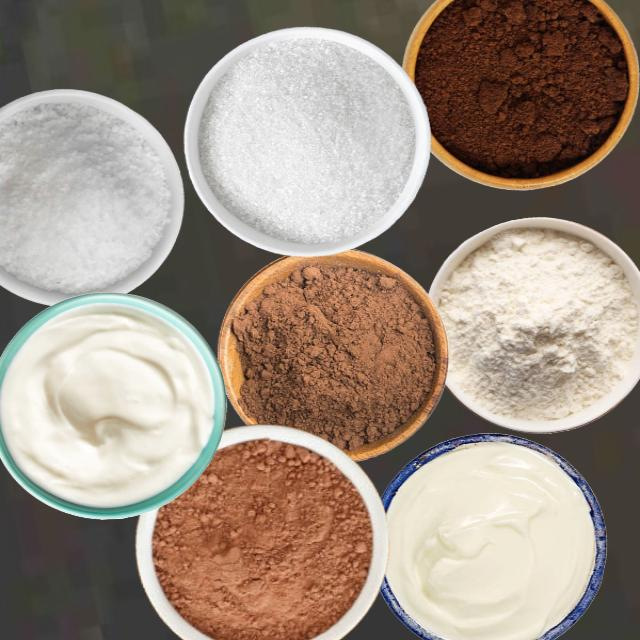Cocoa: (151, 437, 373, 639), (227, 258, 438, 453)
Coffee: (413, 0, 629, 179)
Flour: (436, 227, 638, 421)
Sugar: (198, 36, 416, 244), (0, 100, 171, 294)
